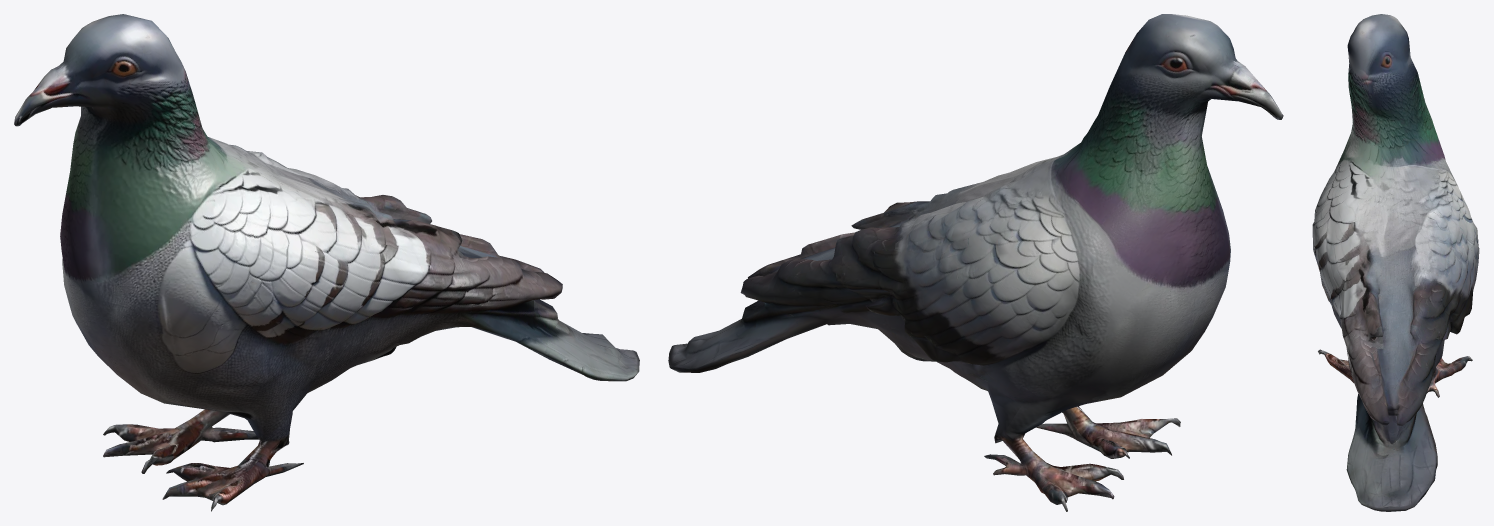
The model's file is pigeon-small.glb.
3 renders of one model, left to right at view 1: azimuth 30°, elevation 25°; view 2: azimuth 150°, elevation 25°; view 3: azimuth 270°, elevation 25°, orthographic. The views are drawn at different scales.
Bounding box in the file's own units: 0.1634 × 0.1198 × 0.0553.
Materials: 1 (1 with a texture image).
